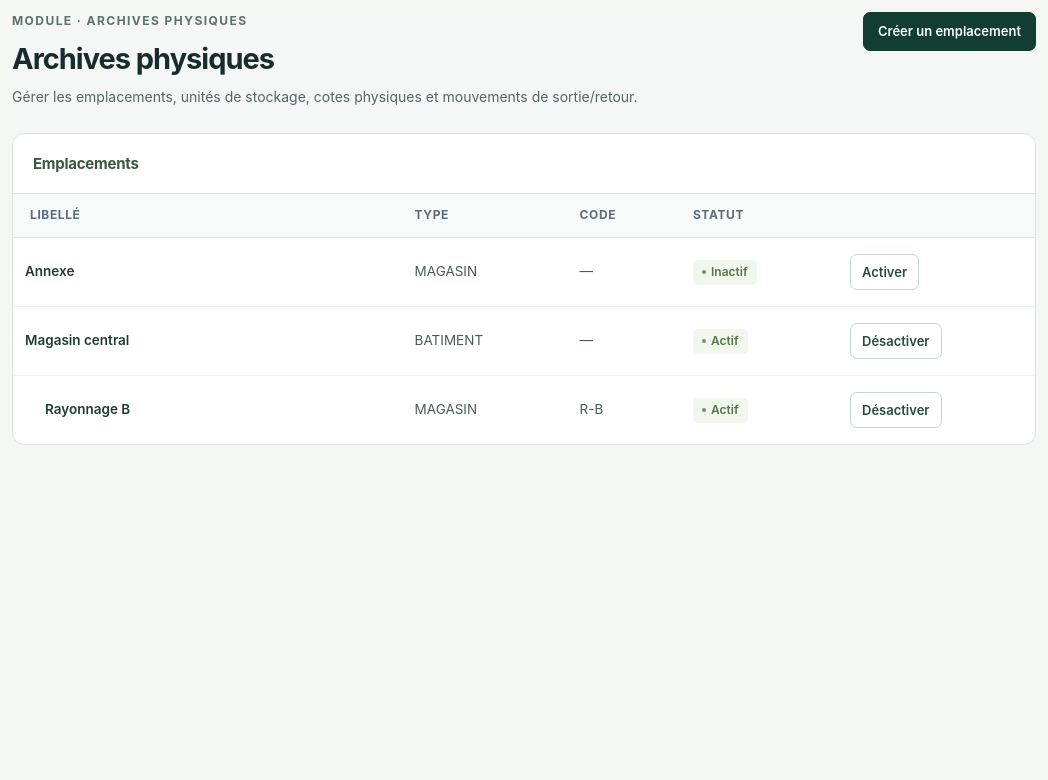
Test: un refus du serveur à la désactivation est dit à l’écran et ne laisse pas le bouton bloqué
Click the button "Désactiver" in the row of "BATIMENT" at (896, 341), box [850,323,942,359]
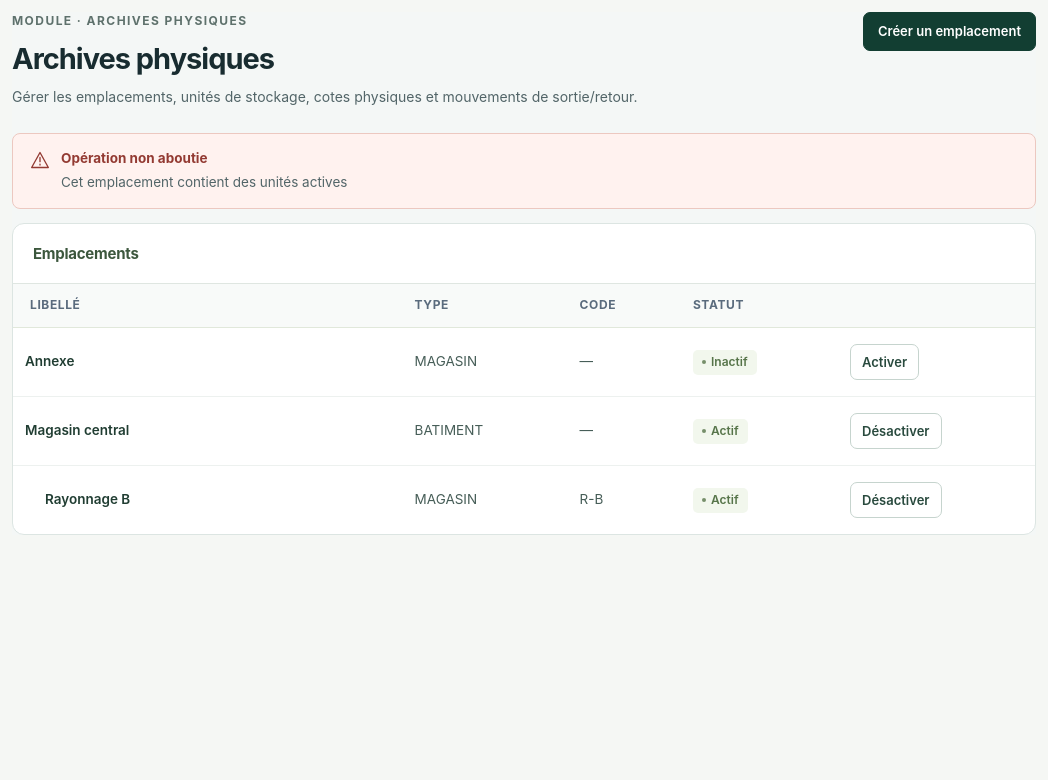
Expected: the button "Désactiver" in the row of "BATIMENT" is enabled, [850,413,942,449]
Expected: the text "Cet emplacement contient des unités actives" is shown, [61,170,347,194]
